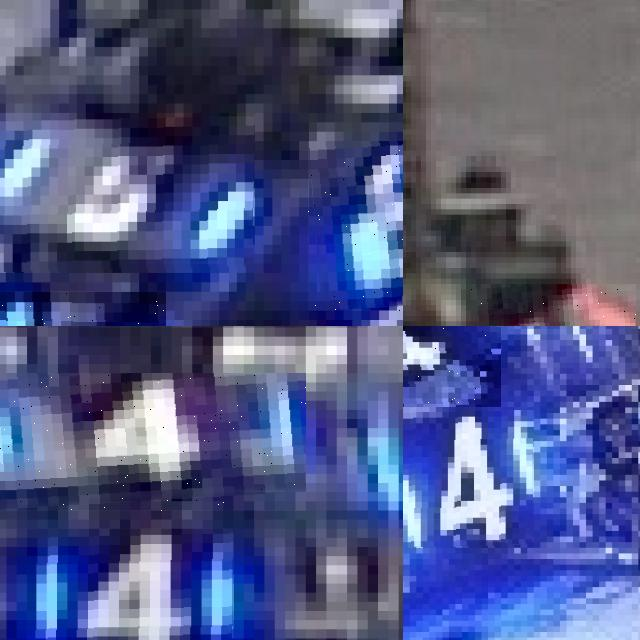B4: (0, 373, 305, 510), (27, 529, 233, 640), (403, 407, 533, 547), (403, 326, 501, 407)
B5: (0, 113, 254, 273), (308, 141, 403, 310), (0, 291, 165, 326)
R1: (471, 284, 636, 326)
